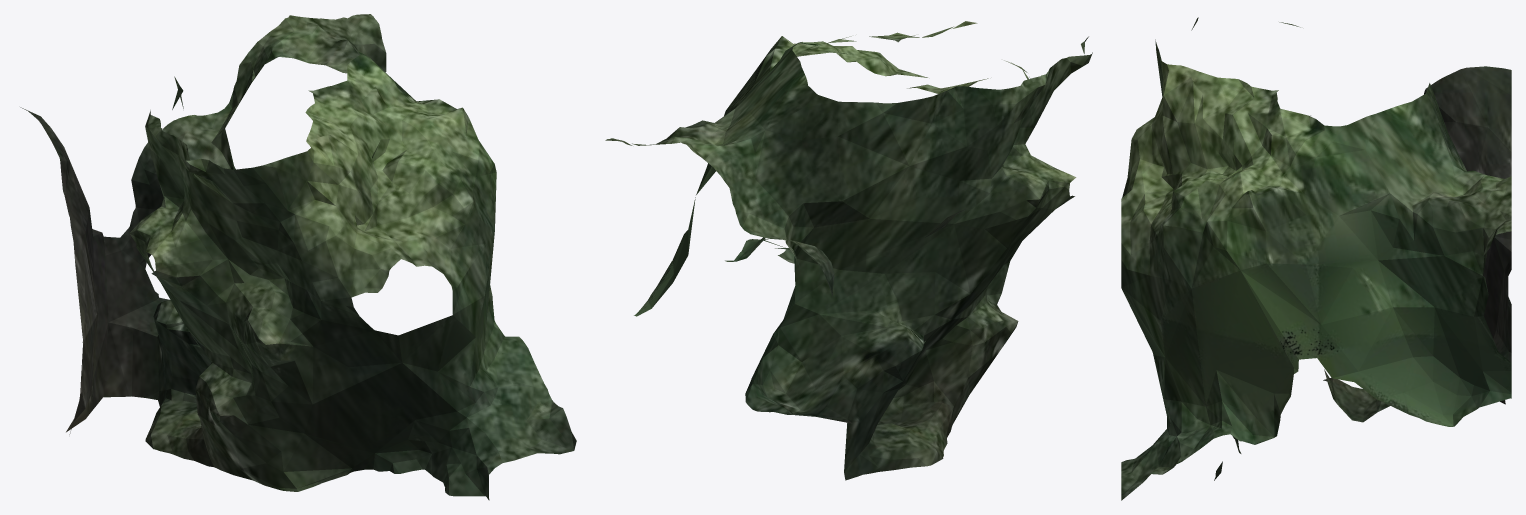
3 renders of one model, left to right at view 1: azimuth 30°, elevation 25°; view 2: azimuth 150°, elevation 25°; view 3: azimuth 270°, elevation 25°, orthographic. The views are drawn at different scales.
Size of the model in its own units: 5.9 by 5.9 by 5.9.
Materials: 6 (6 with a texture image).
